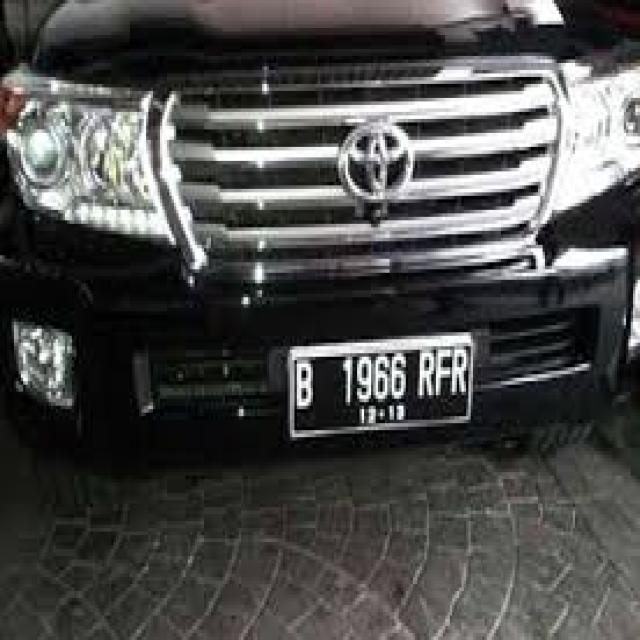lisence-plate: (284, 322, 482, 459)
